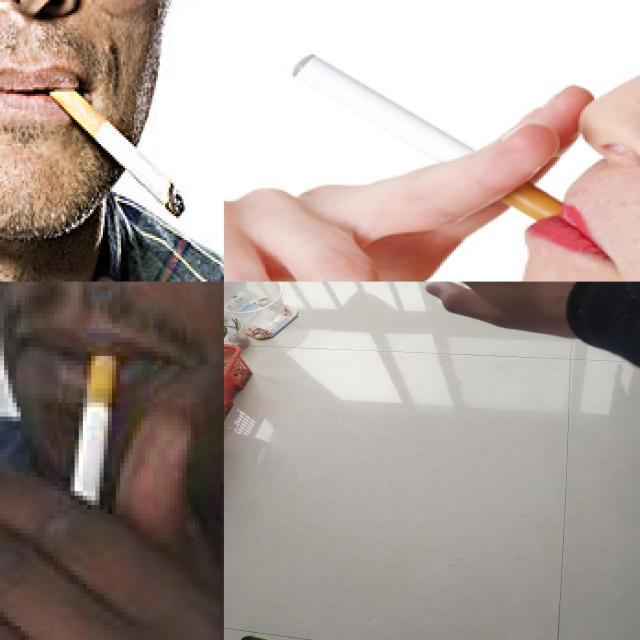smoking: (288, 52, 572, 231), (48, 80, 186, 219), (71, 331, 121, 509)
